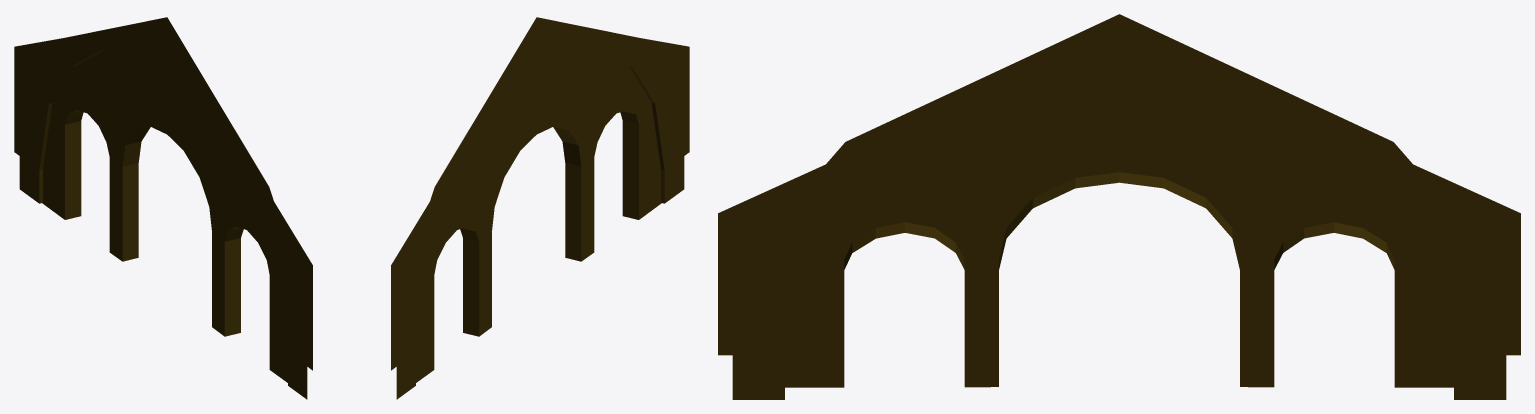
File: Museum_Ark_Big_03.fbx
3 views of the same model, side by side, from view 1: azimuth 30°, elevation 25°; view 2: azimuth 150°, elevation 25°; view 3: azimuth 270°, elevation 25° (orthographic). The views are drawn at different scales.
Parts seen in each view (by area): view 1: Archi_Coté.002; view 2: Archi_Coté.002; view 3: Archi_Coté.002.
Part boxes in pixels (x1,y1,x2,y2): Archi_Coté.002: (14, 17, 312, 399); Archi_Coté.002: (391, 17, 689, 399); Archi_Coté.002: (718, 14, 1520, 399).
Size of the model in its own units: 85.75 by 920 by 1791.
